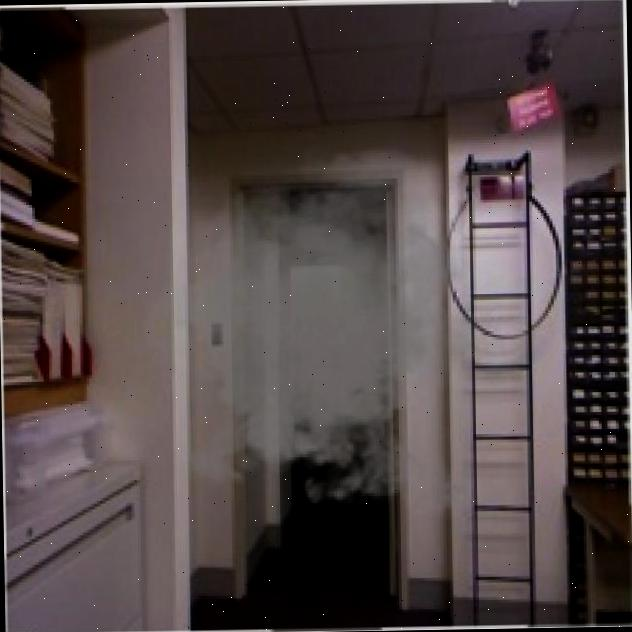smoke: (122, 139, 532, 531)
